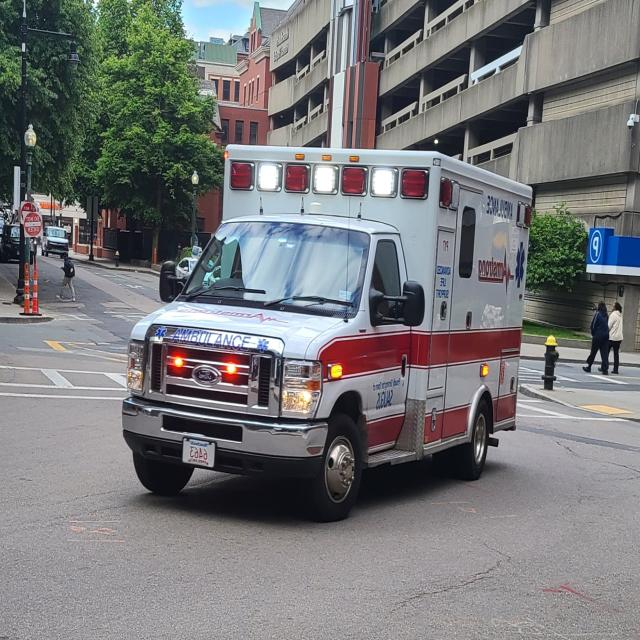emergency: (121, 147, 530, 520)
